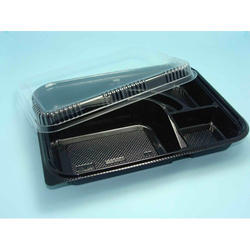PlasticBox: (12, 50, 250, 194)
